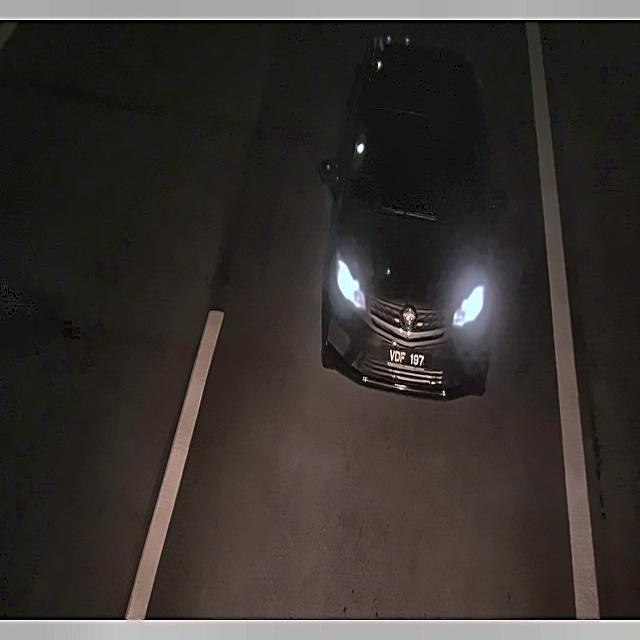car: (379, 338, 430, 379)
